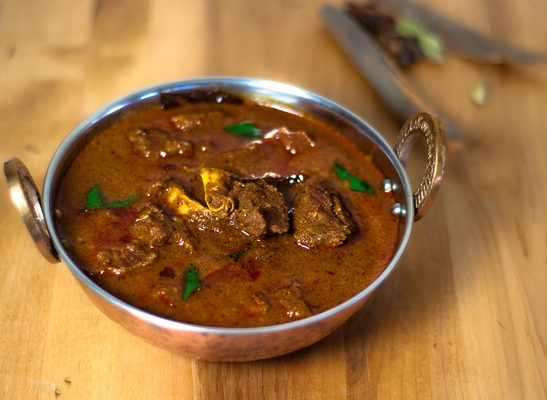salad: (2, 157, 59, 265)
sushi: (15, 75, 420, 363)
